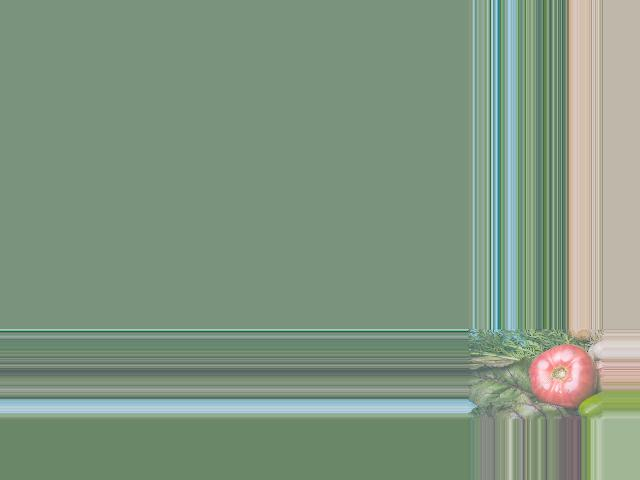tomato: (529, 344, 598, 409)
